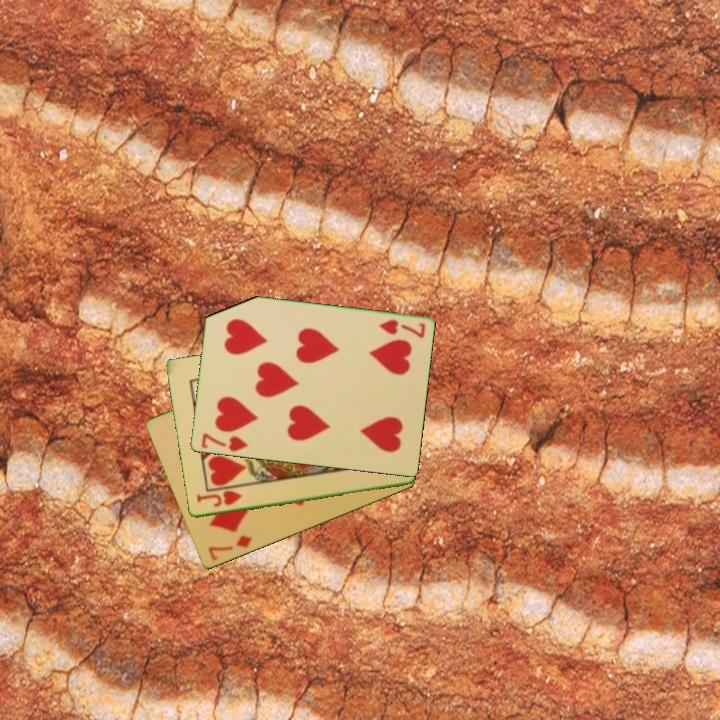7d: (204, 532, 255, 564)
7h: (197, 429, 251, 454), (376, 316, 428, 341)
Jh: (193, 487, 245, 510)
